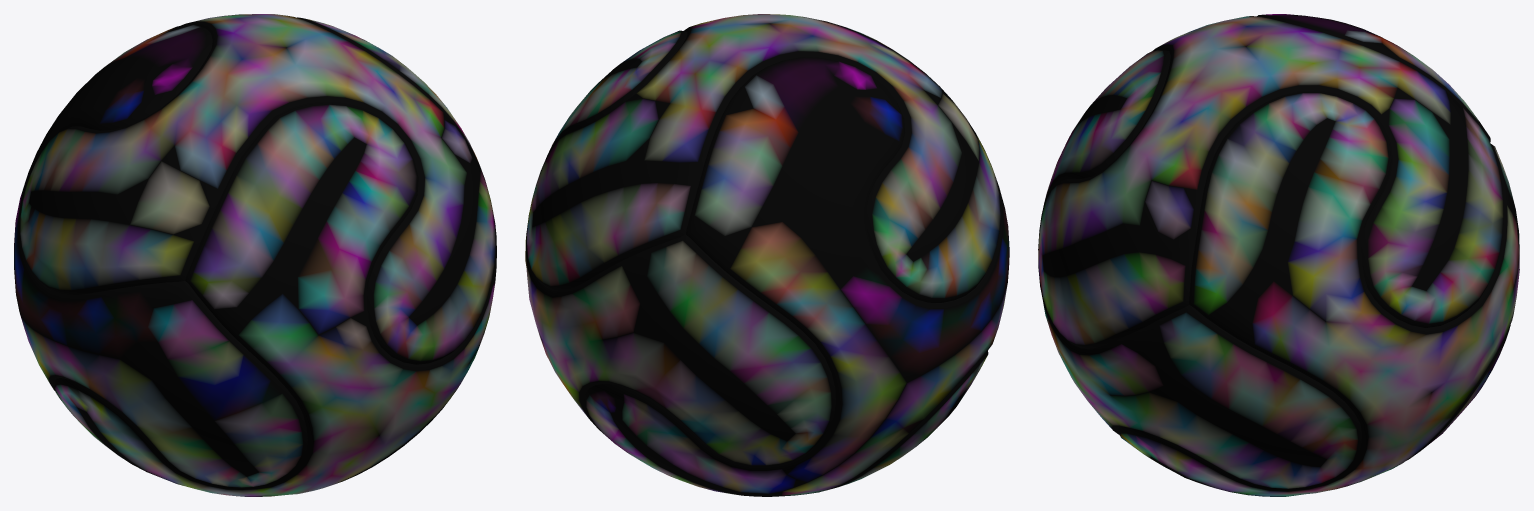
Rendered from Ball_SphereGulp_SM.gltf.
The picture shows the model from 3 angles, left to right: view 1: azimuth 30°, elevation 25°; view 2: azimuth 150°, elevation 25°; view 3: azimuth 270°, elevation 25°; orthographic projection.
Parts seen in each view (by area): view 1: Ball_SphereGulp_SM; view 2: Ball_SphereGulp_SM; view 3: Ball_SphereGulp_SM.
Boxes of the visible parts, box(x1,y1,x2,y2) form: Ball_SphereGulp_SM: box(14, 14, 496, 496); Ball_SphereGulp_SM: box(525, 14, 1009, 496); Ball_SphereGulp_SM: box(1038, 14, 1519, 496).
Bounding box in the file's own units: 1.86 × 1.86 × 1.86.
